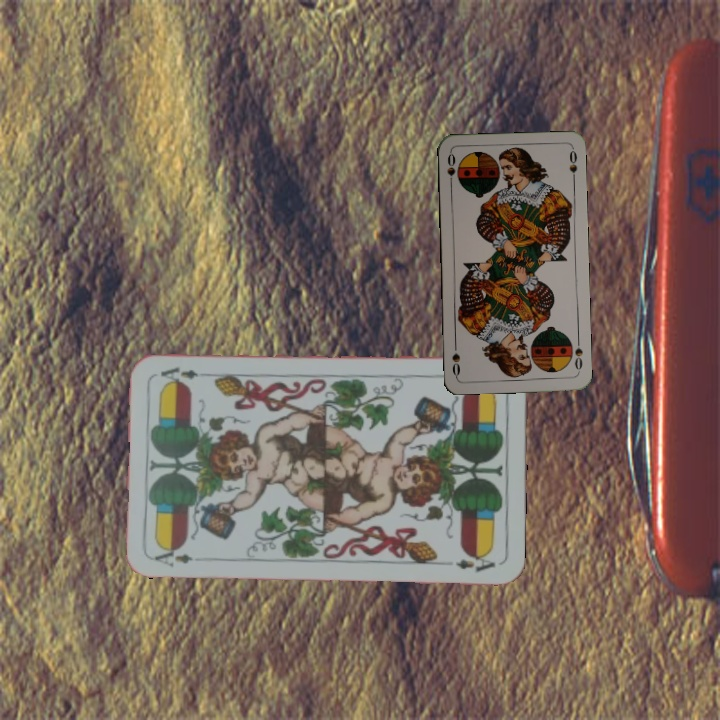EA: (150, 543, 195, 570)
SO: (443, 149, 458, 190), (571, 334, 585, 375)
